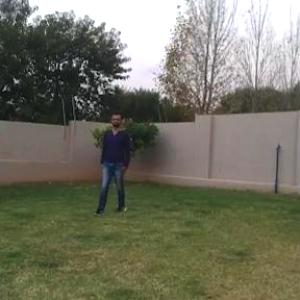follow: (101, 112, 126, 208)
